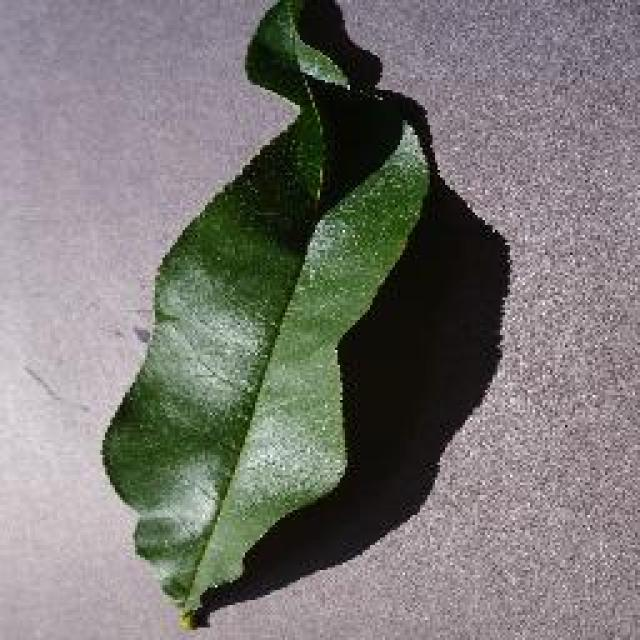Pea_healthy: (125, 38, 437, 536)
